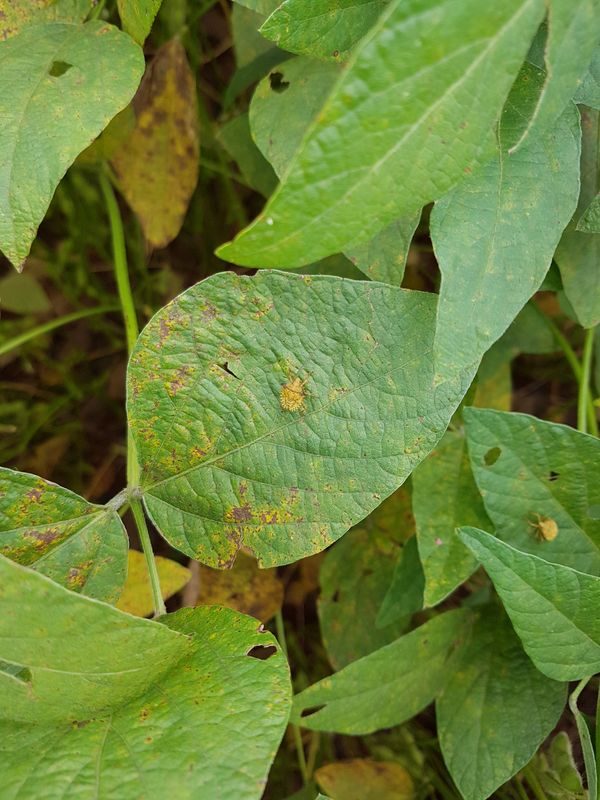Euschistus_heros_ninfa: (267, 362, 321, 417), (521, 505, 571, 551)
